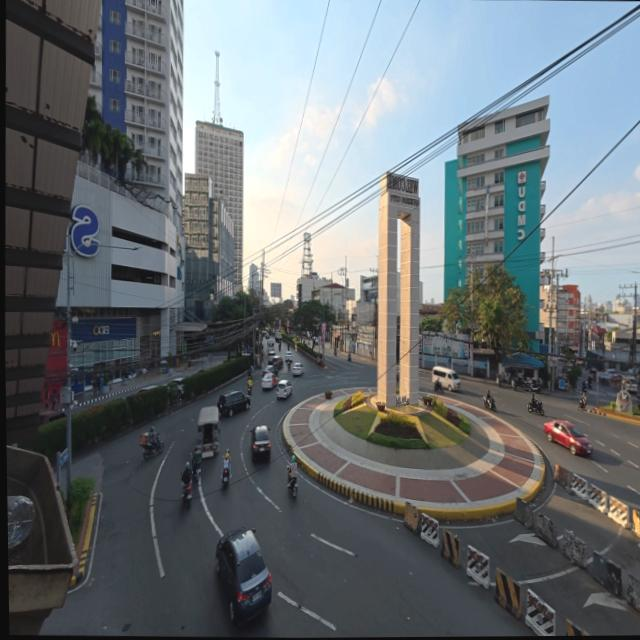Jeepneys: (197, 406, 218, 457)
car: (215, 528, 271, 623), (543, 420, 591, 456), (216, 391, 249, 416), (249, 425, 269, 460), (38, 411, 64, 425), (167, 377, 183, 396), (276, 380, 291, 399), (261, 372, 276, 390), (135, 384, 157, 394), (271, 356, 282, 370), (291, 363, 302, 376), (263, 364, 277, 374), (267, 337, 275, 349), (284, 351, 291, 362), (267, 350, 274, 360), (312, 337, 319, 346)
motorcycle: (141, 434, 163, 459), (191, 450, 201, 482), (287, 476, 298, 498), (527, 400, 543, 415), (181, 483, 191, 507), (510, 375, 525, 389), (483, 396, 495, 410), (495, 374, 509, 386), (221, 467, 229, 487), (528, 380, 539, 393), (577, 396, 585, 410), (434, 380, 442, 392), (247, 383, 251, 394), (286, 362, 290, 371), (347, 353, 350, 362), (333, 349, 335, 357), (278, 344, 280, 351)
vans: (432, 366, 459, 391), (621, 378, 636, 393)
